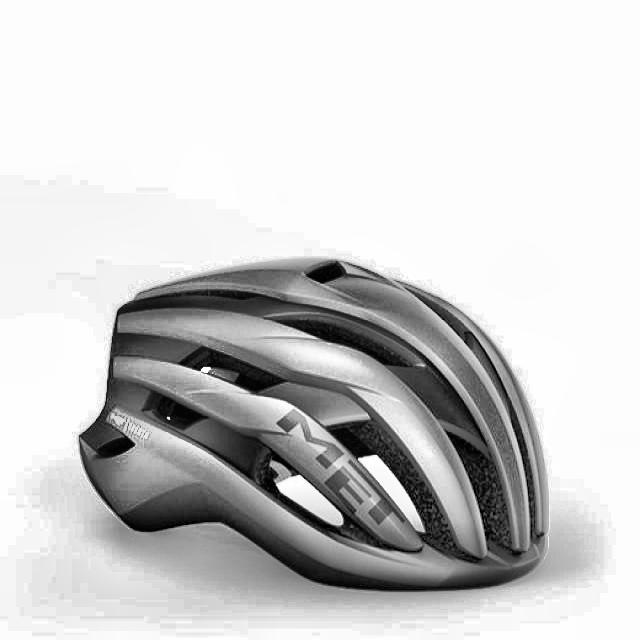Helmet: (70, 244, 556, 606)
